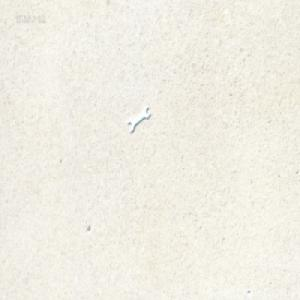Wrench: (127, 106, 149, 134)
